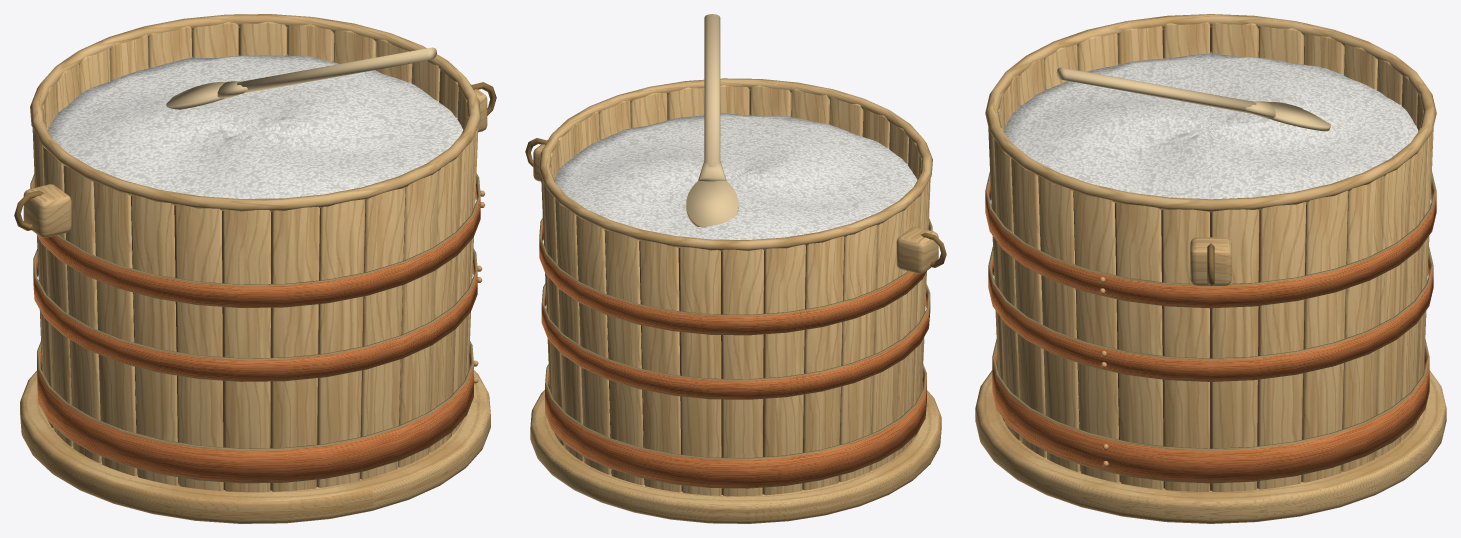
The model's file is ricetub.glb.
3 renders of one model, left to right at view 1: azimuth 30°, elevation 25°; view 2: azimuth 150°, elevation 25°; view 3: azimuth 270°, elevation 25°, orthographic. The views are drawn at different scales.
Visible parts, largest first — view 1: RiceTubRiceMound, RiceTubLidTop, RiceHoop7, RiceRim, RiceHoop20, RiceHoop30, RiceStave9, RiceStave8, RiceStave10, RiceStave7, RiceStave11, RiceStave6 (+22 smaller); view 2: RiceTubRiceMound, RiceTubLidTop, RiceHoop7, RiceRim, RiceHoop20, RiceHoop30, RiceStave18, RiceStave19, RiceStave17, RiceStave20, RiceStave16, RiceStave21 (+21 smaller); view 3: RiceTubRiceMound, RiceTubLidTop, RiceHoop7, RiceRim, RiceHoop30, RiceHoop20, RiceStave1, RiceStave26, RiceStave0, RiceStave27, RiceStave2, RiceStave25 (+23 smaller).
Boxes of the visible parts, x1=… form: RiceTubRiceMound: x1=47, y1=54, x2=463, y2=198; RiceTubLidTop: x1=20, y1=370, x2=490, y2=523; RiceHoop7: x1=37, y1=341, x2=473, y2=483; RiceRim: x1=30, y1=14, x2=480, y2=211; RiceHoop20: x1=33, y1=248, x2=477, y2=381; RiceHoop30: x1=30, y1=173, x2=480, y2=307; RiceStave9: x1=223, y1=209, x2=270, y2=492; RiceStave8: x1=272, y1=206, x2=319, y2=491; RiceStave10: x1=175, y1=204, x2=223, y2=490; RiceStave7: x1=317, y1=199, x2=365, y2=487; RiceStave11: x1=131, y1=194, x2=178, y2=485; RiceStave6: x1=360, y1=187, x2=405, y2=479; RiceTubRiceMound: x1=554, y1=113, x2=917, y2=239; RiceTubLidTop: x1=530, y1=390, x2=941, y2=523; RiceHoop7: x1=545, y1=364, x2=926, y2=488; RiceRim: x1=539, y1=78, x2=932, y2=251; RiceHoop20: x1=541, y1=283, x2=930, y2=399; RiceHoop30: x1=539, y1=217, x2=932, y2=335; RiceStave18: x1=722, y1=249, x2=763, y2=496; RiceStave19: x1=679, y1=247, x2=721, y2=495; RiceStave17: x1=764, y1=244, x2=805, y2=495; RiceStave20: x1=640, y1=240, x2=681, y2=492; RiceStave16: x1=803, y1=236, x2=844, y2=490; RiceStave21: x1=605, y1=229, x2=644, y2=485; RiceTubRiceMound: x1=1003, y1=51, x2=1418, y2=199; RiceTubLidTop: x1=975, y1=370, x2=1446, y2=523; RiceHoop7: x1=992, y1=339, x2=1429, y2=483; RiceRim: x1=985, y1=14, x2=1436, y2=212; RiceHoop30: x1=985, y1=172, x2=1436, y2=308; RiceHoop20: x1=988, y1=247, x2=1433, y2=381; RiceStave1: x1=1115, y1=202, x2=1163, y2=489; RiceStave26: x1=1258, y1=202, x2=1306, y2=489; RiceStave0: x1=1162, y1=209, x2=1209, y2=491; RiceStave27: x1=1212, y1=209, x2=1259, y2=491; RiceStave2: x1=1073, y1=190, x2=1119, y2=482; RiceStave25: x1=1302, y1=190, x2=1348, y2=482.
Size of the model in its own units: 0.673 by 0.5435 by 0.57.
Materials: 12 (6 with a texture image).
